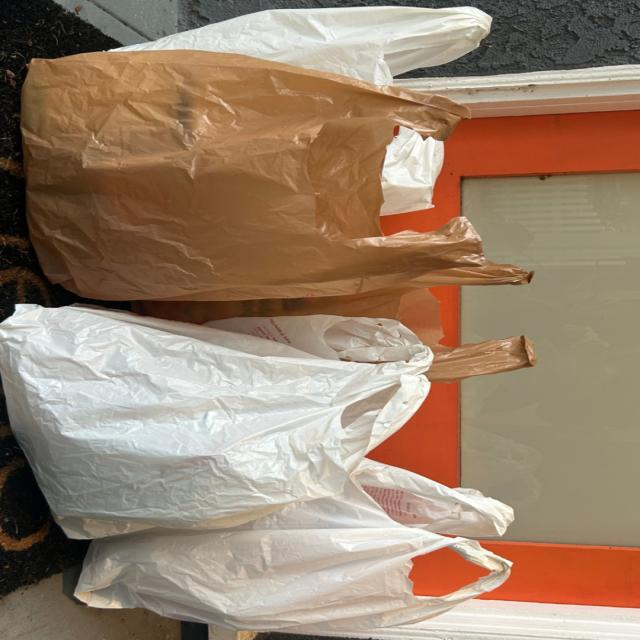Single-layer Plastic: (22, 50, 527, 301), (2, 305, 434, 538), (76, 459, 512, 630), (133, 288, 535, 382), (117, 6, 491, 85), (380, 128, 444, 215)
